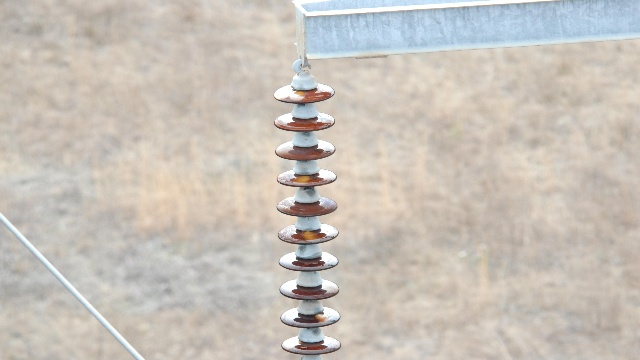insulator_unspecified: (275, 81, 341, 353)
pollution_flashover_local: (299, 230, 325, 245), (290, 88, 310, 103), (290, 173, 314, 185), (317, 312, 331, 326)
